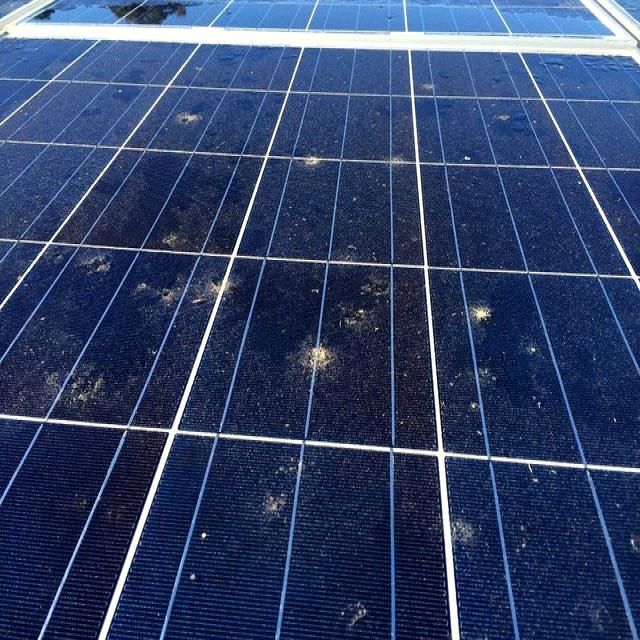bird: (30, 322, 129, 414), (250, 461, 309, 570), (150, 271, 262, 326), (434, 500, 514, 564), (72, 246, 134, 312), (272, 327, 330, 394), (339, 278, 399, 339), (326, 582, 394, 630), (150, 204, 212, 252), (377, 138, 425, 184), (164, 89, 210, 132), (453, 303, 508, 334), (298, 129, 332, 179), (493, 108, 533, 146), (406, 65, 438, 100)
